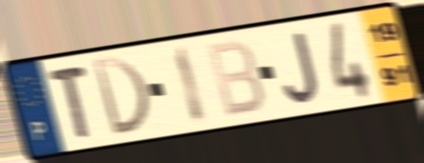4: (329, 18, 374, 103)
B: (203, 37, 267, 120)
D: (89, 55, 153, 138)
I: (172, 44, 210, 127)
J: (280, 29, 322, 106)
T: (45, 62, 94, 141)
